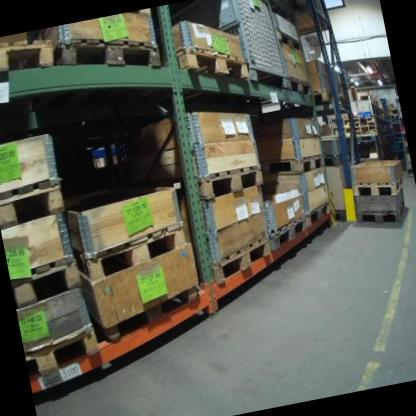pallet: (93, 278, 206, 346), (74, 221, 192, 285), (57, 20, 165, 87), (21, 318, 105, 380), (172, 32, 251, 96), (8, 254, 85, 310), (206, 229, 279, 288), (0, 175, 70, 232), (181, 164, 265, 207), (0, 31, 59, 81), (265, 210, 313, 253), (265, 151, 326, 180), (355, 199, 409, 231), (349, 172, 406, 202), (302, 196, 338, 231), (275, 24, 304, 56), (313, 85, 349, 110), (285, 71, 312, 101)
stillage: (167, 0, 291, 108), (282, 0, 332, 30)
